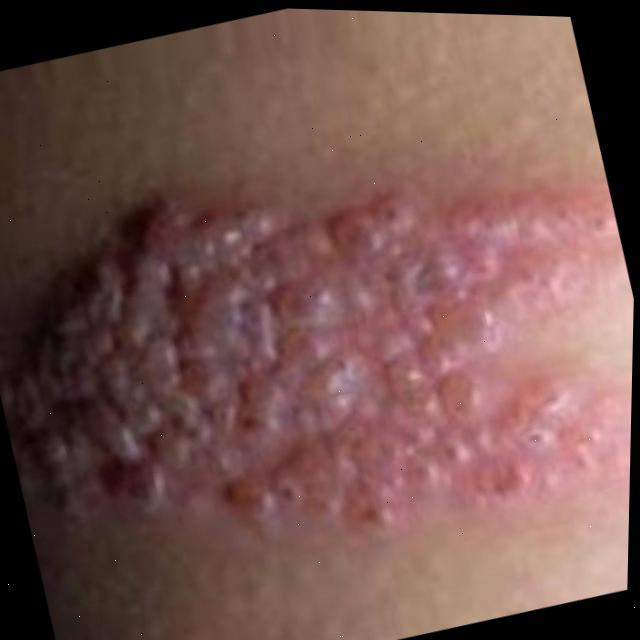Shingles: (0, 175, 636, 609)
